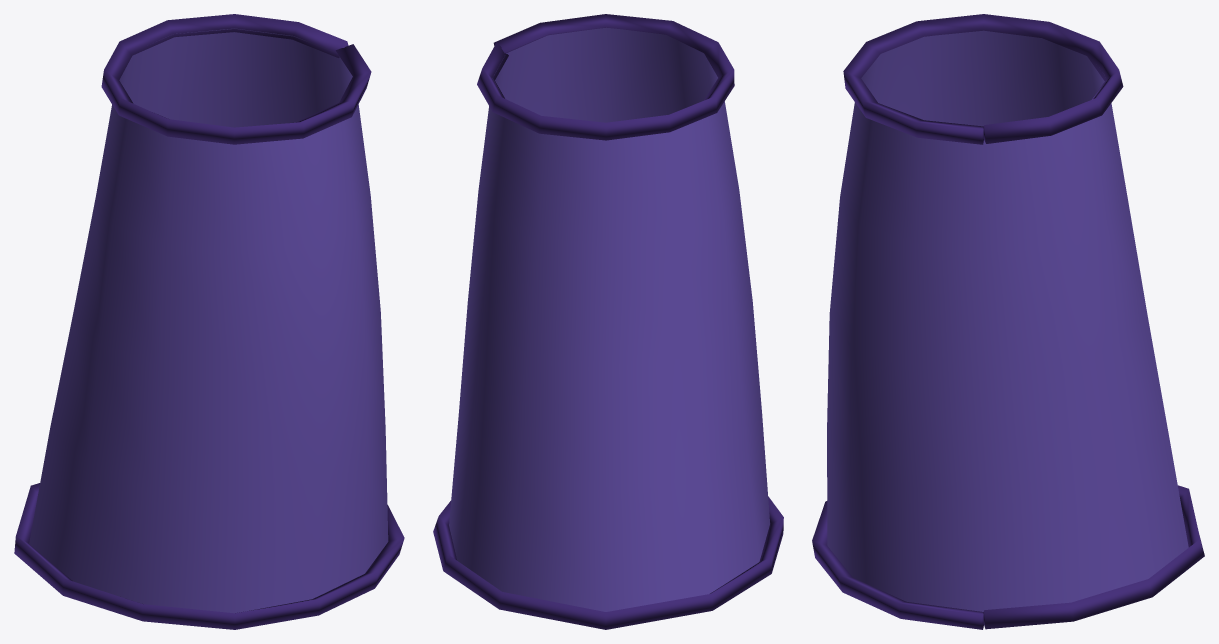
File: demonite_armor_cuisse.R.glb
The picture shows the model from 3 angles, left to right: view 1: azimuth 30°, elevation 25°; view 2: azimuth 150°, elevation 25°; view 3: azimuth 270°, elevation 25°; orthographic projection. The views are drawn at different scales.
Visible parts, largest first — view 1: demonite_armor_cuisse.R; view 2: demonite_armor_cuisse.R; view 3: demonite_armor_cuisse.R.
Part boxes in pixels (x1=…): demonite_armor_cuisse.R: x1=14, y1=14, x2=404, y2=629; demonite_armor_cuisse.R: x1=433, y1=14, x2=783, y2=629; demonite_armor_cuisse.R: x1=812, y1=14, x2=1204, y2=629.
Size of the model in its own units: 0.2685 by 0.3856 by 0.2809.
